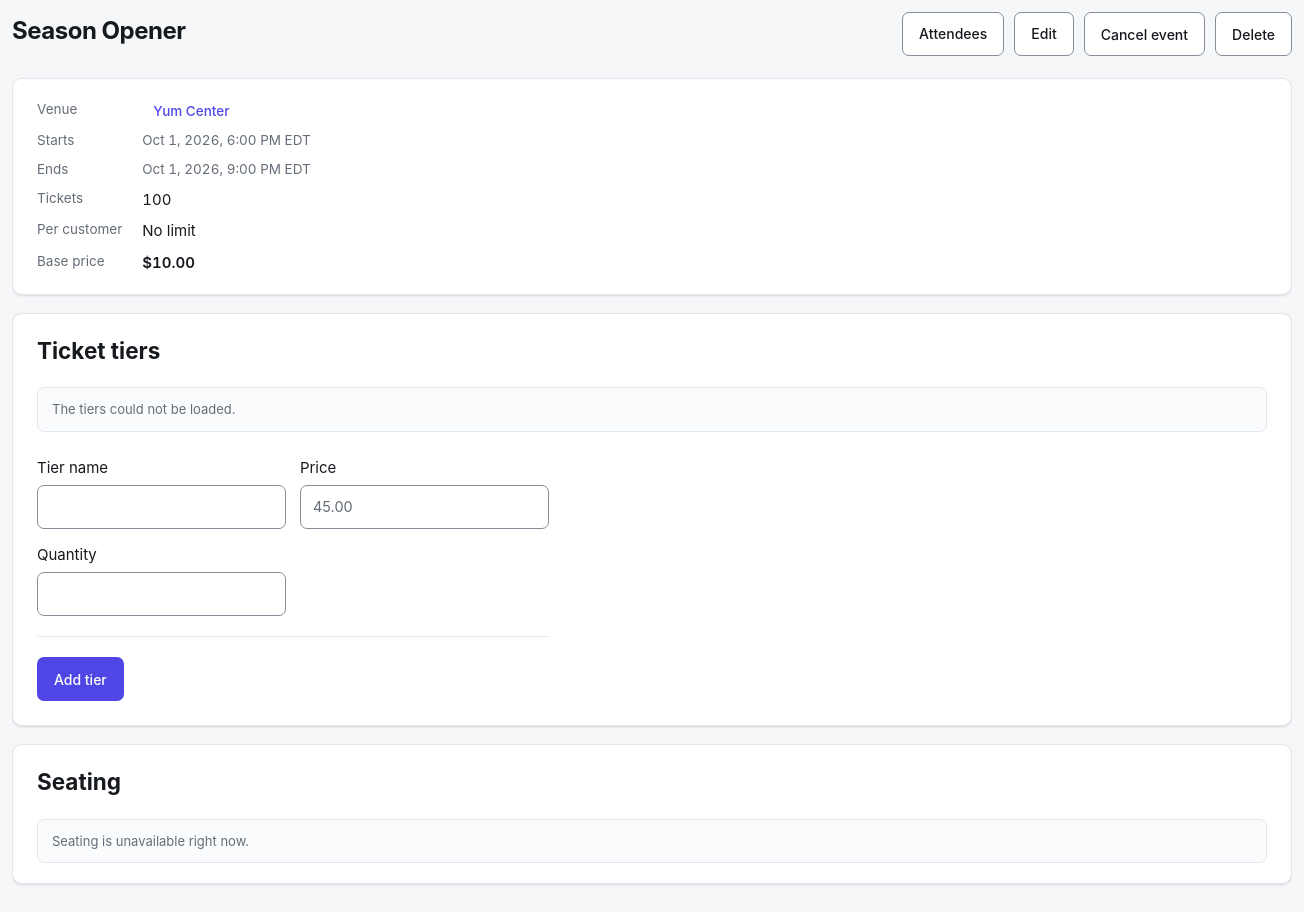
Test: Deleting an event › on success, returns to the list and says it was deleted
The width and height of the screenshot is (1304, 912).
Click the button "Delete" at (1254, 34), box [1215,12,1292,56]
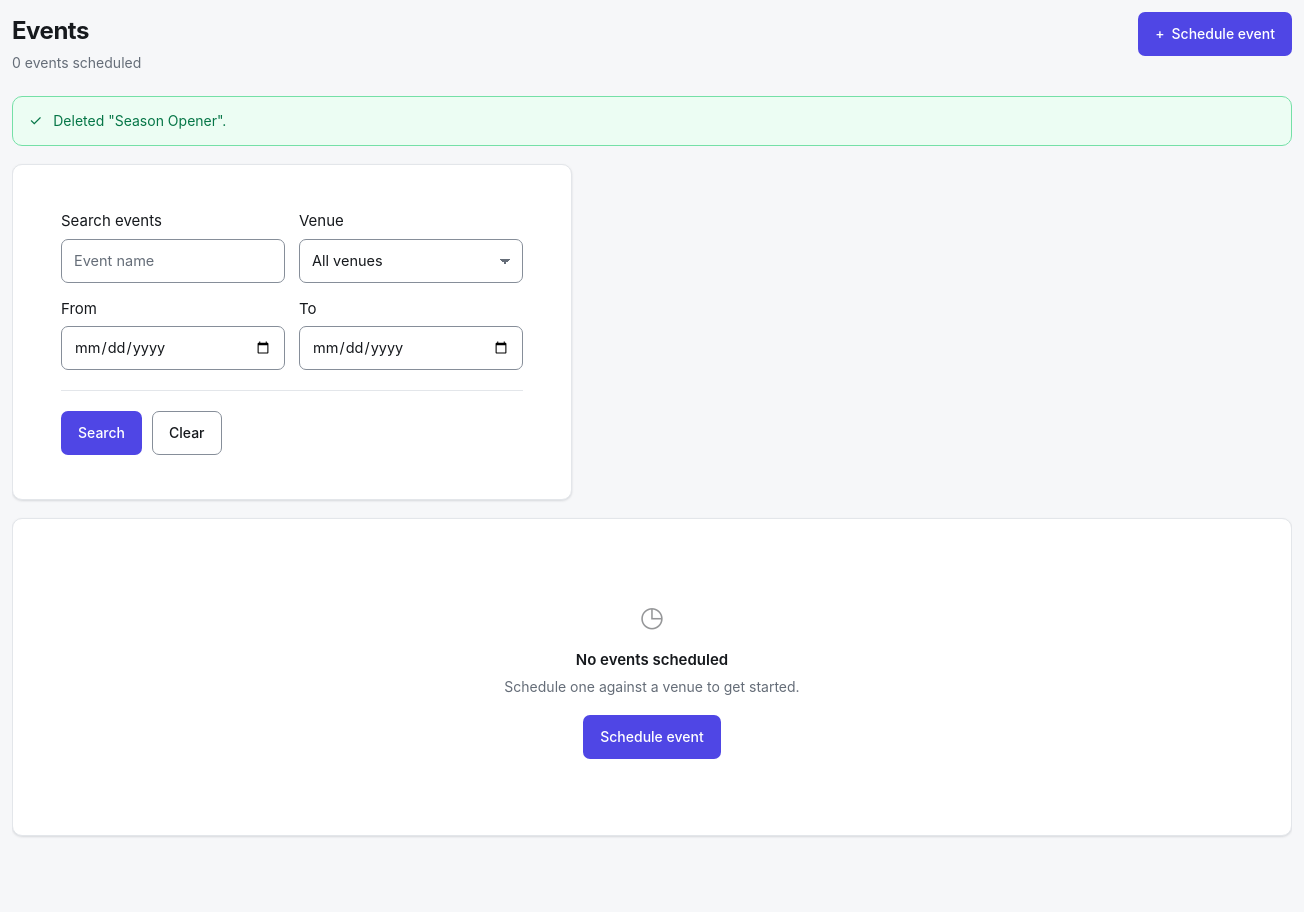
expect the text "Deleted \"Season Opener\"." is shown: met, box [53,110,226,132]
expect the heading "Events" is shown: met, box [12,16,89,45]
